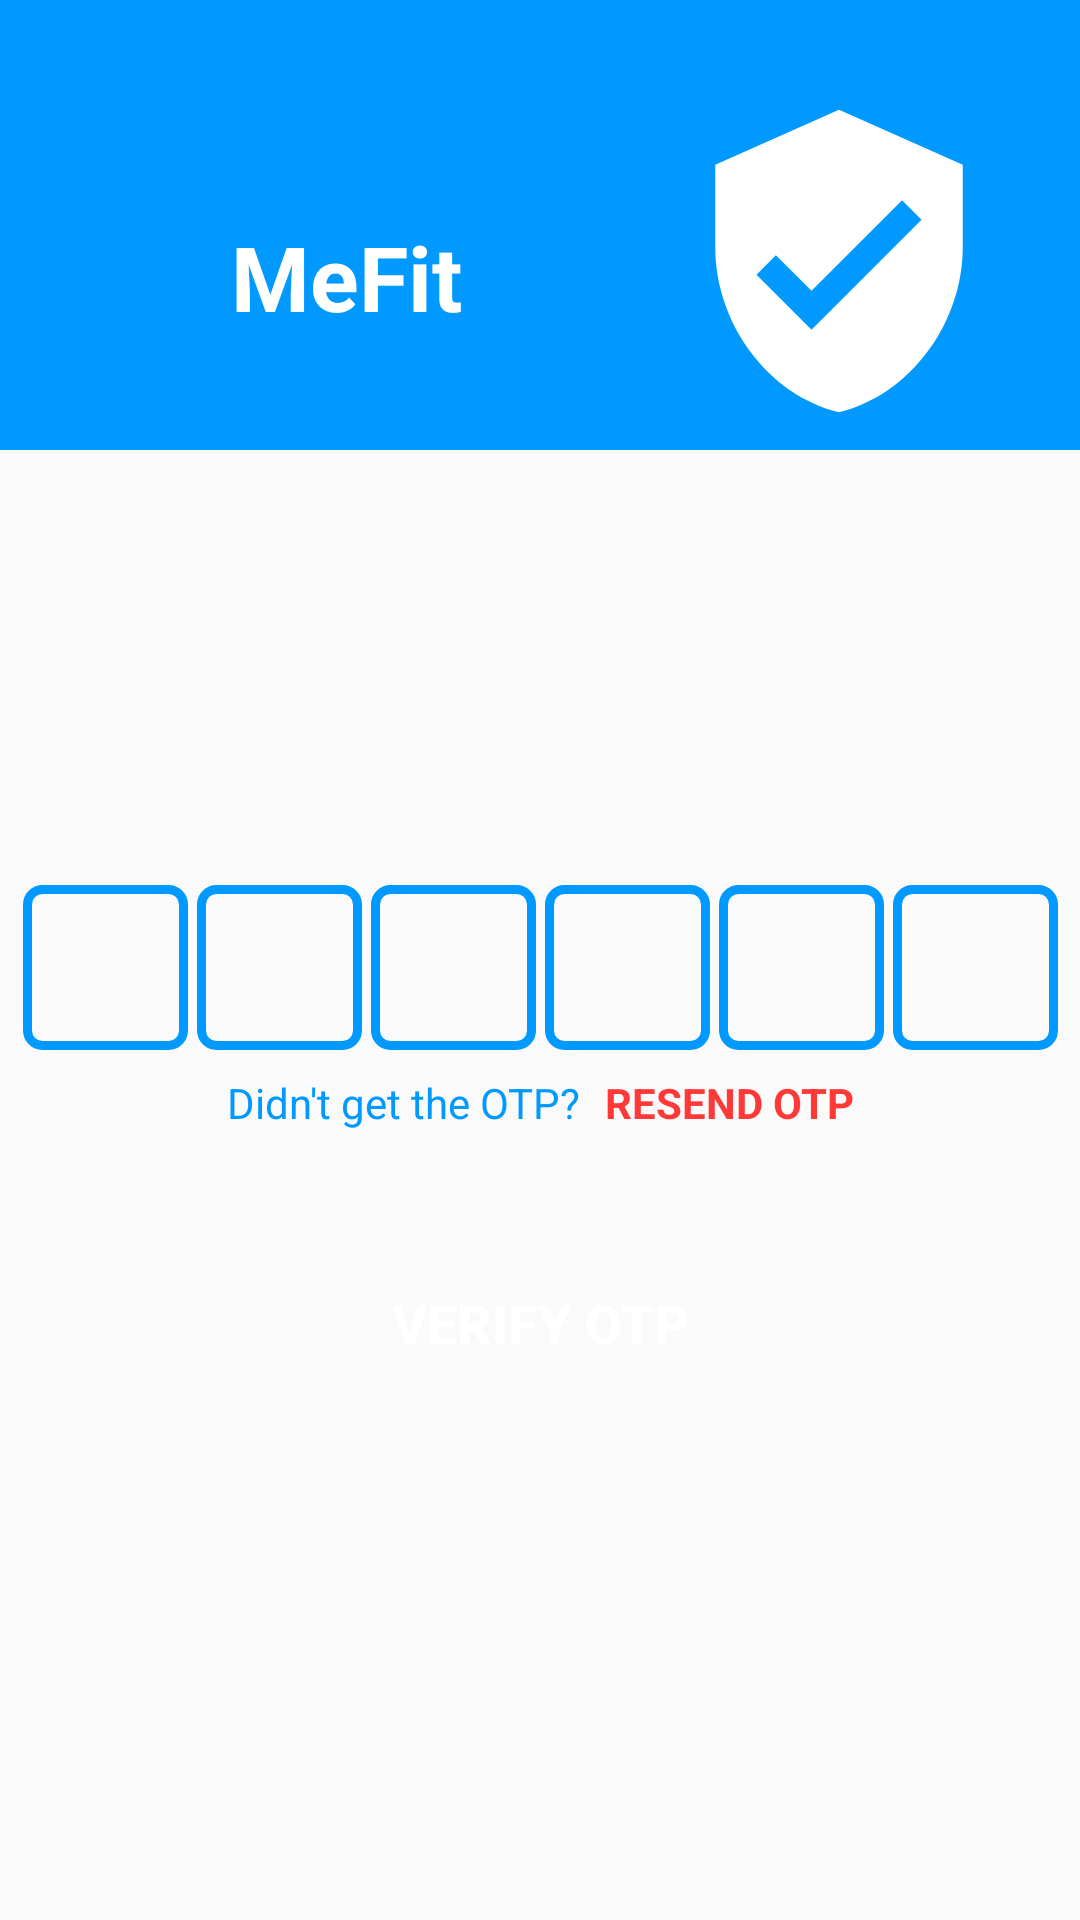

Where to tap for icons on this 1080*1920 app screen, as point (x, y):
verify: point (839, 261)
